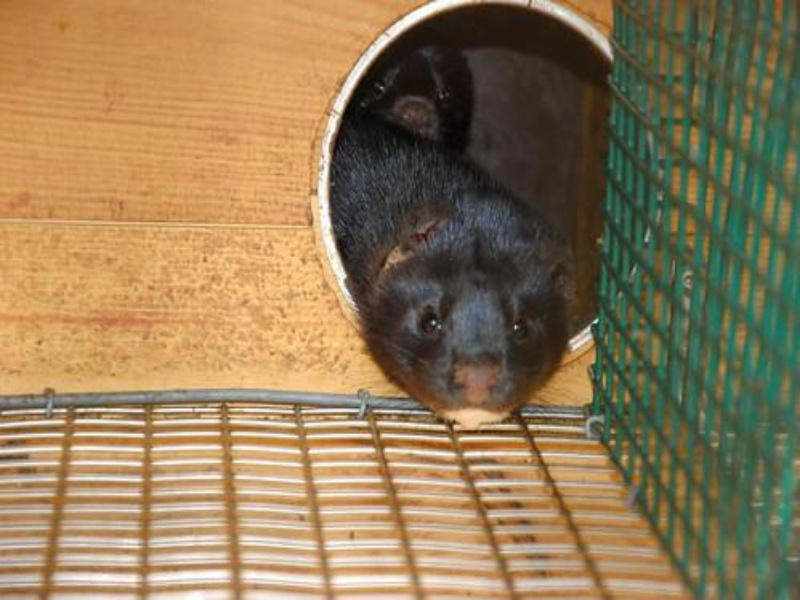minkish: (311, 118, 574, 427), (353, 25, 469, 157)
